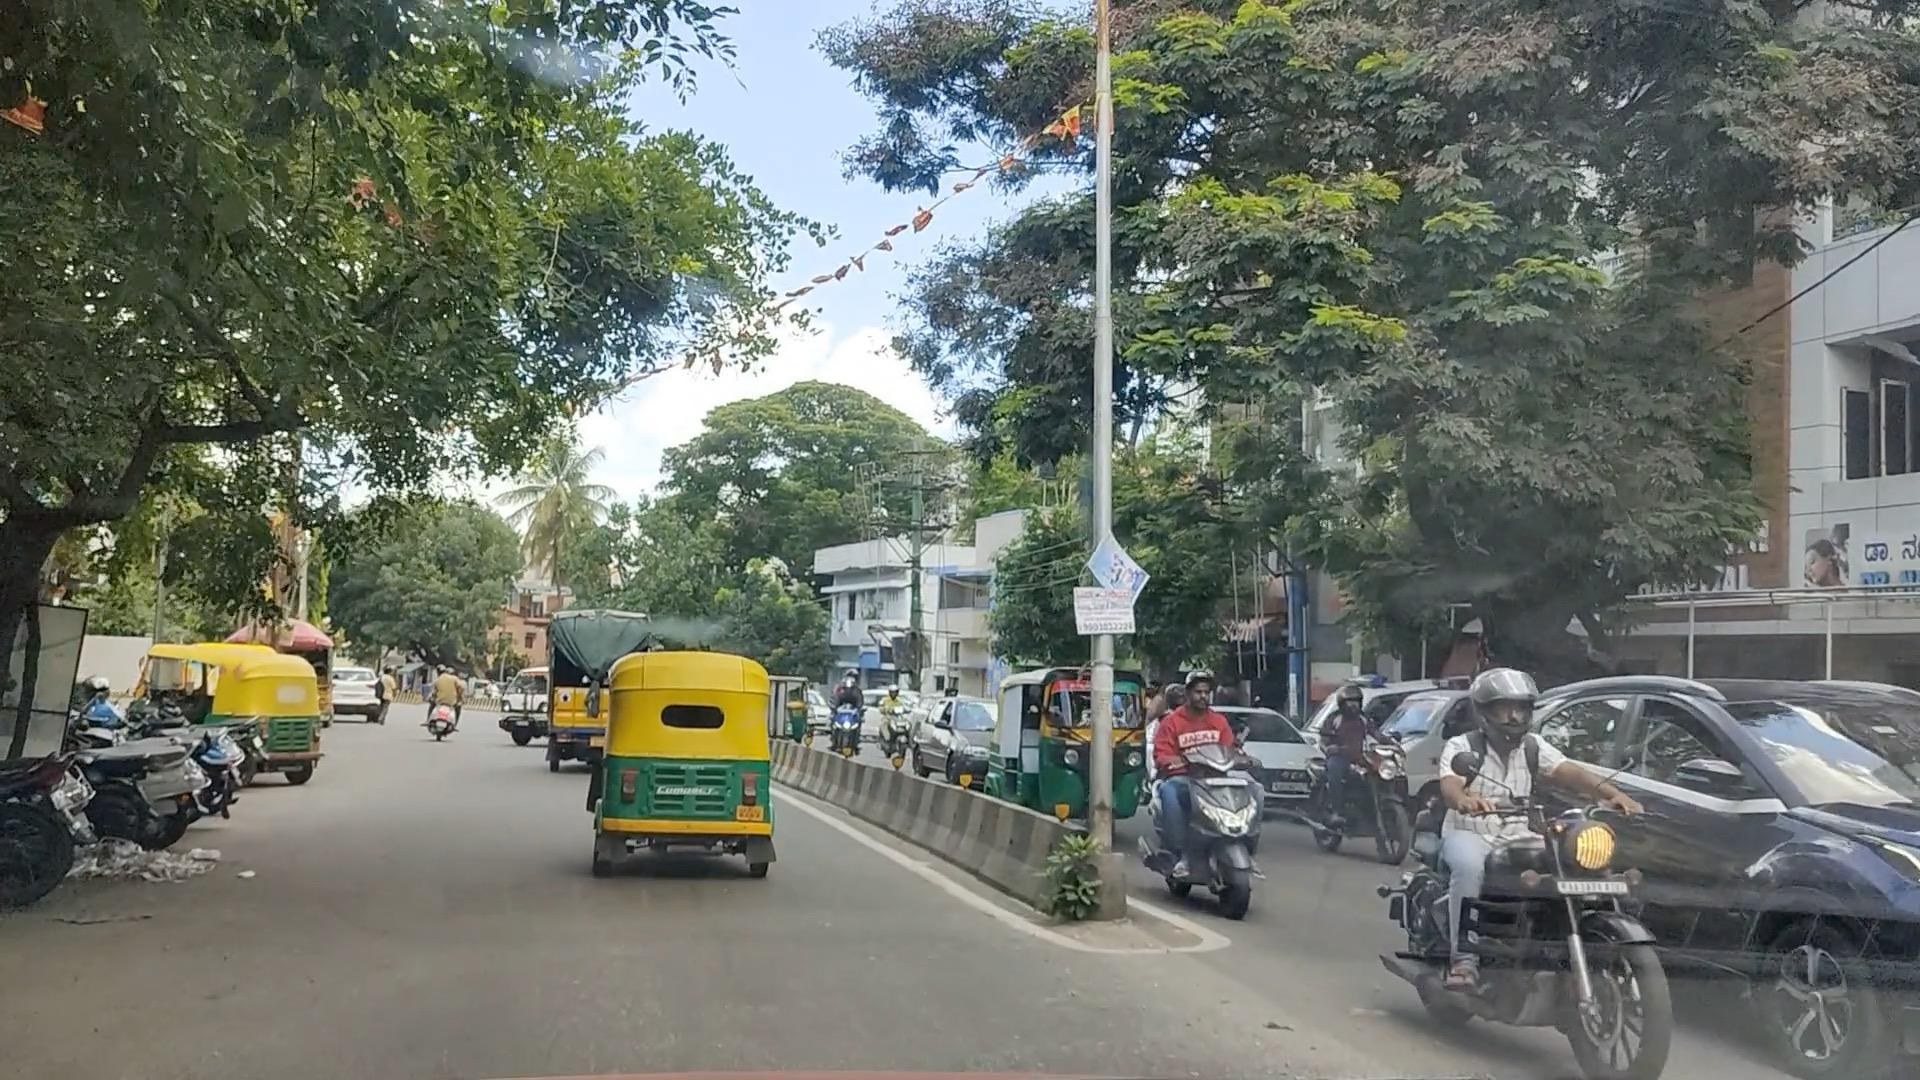LMV: (1423, 670, 1625, 1080), (611, 658, 767, 882), (1163, 665, 1258, 907), (427, 662, 469, 737)
